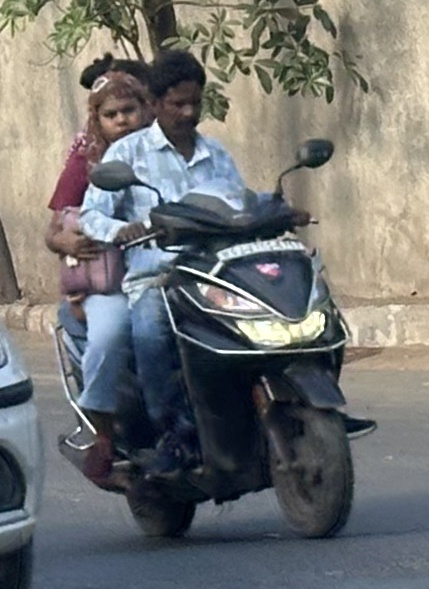BikeWithRider: (36, 42, 385, 547)
NoHelmet: (73, 60, 161, 155), (142, 46, 212, 137), (86, 67, 148, 147)
